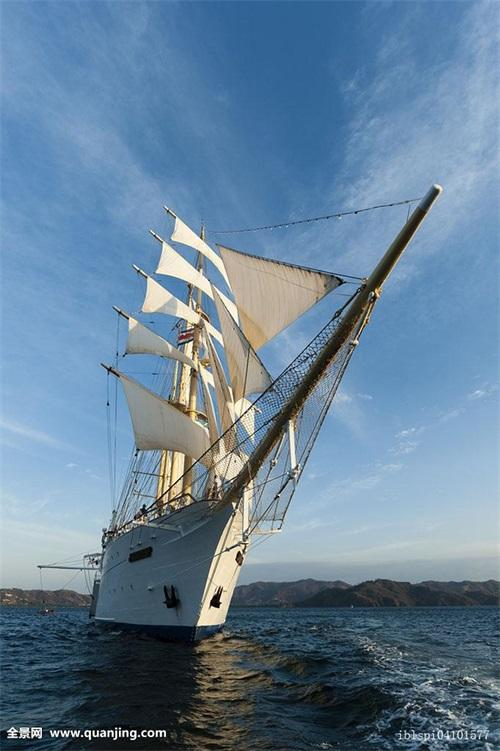Ship: (37, 184, 442, 643)
